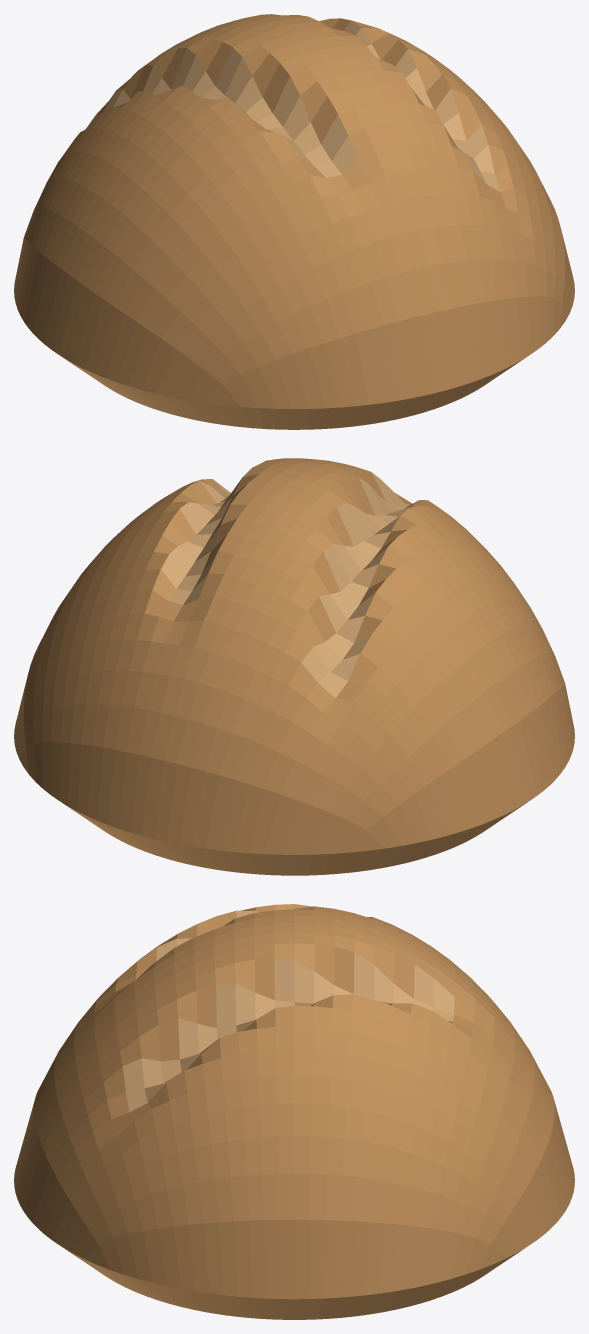
3 views of the same model, one above another, from view 1: azimuth 30°, elevation 25°; view 2: azimuth 150°, elevation 25°; view 3: azimuth 270°, elevation 25° (orthographic).
Visible parts, largest first — view 1: Scored round loaf; view 2: Scored round loaf; view 3: Scored round loaf.
Boxes of the visible parts, x1,y1,x2,y2 form: Scored round loaf: [14, 14, 574, 429]; Scored round loaf: [14, 458, 574, 875]; Scored round loaf: [14, 904, 574, 1319].
Size of the model in its own units: 0.286 by 0.17 by 0.286.
